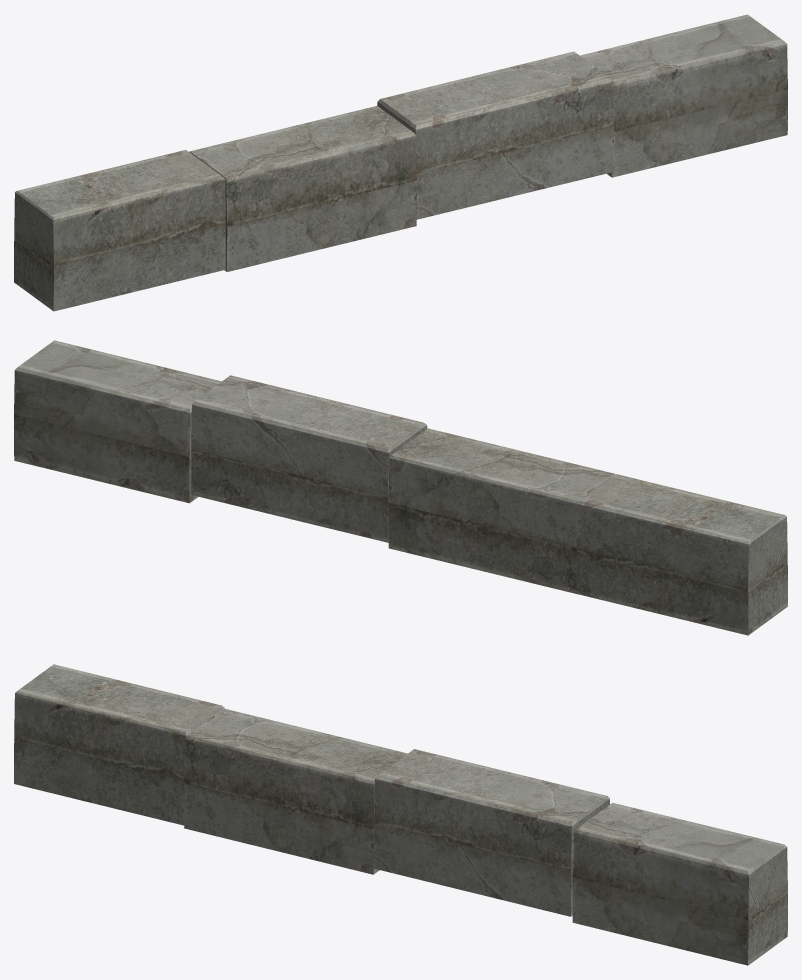
The model's file is bg_lut_lucastle_floorfence01_sm_jjy.FBX.
The picture shows the model from 3 angles, top to bottom: view 1: azimuth 30°, elevation 25°; view 2: azimuth 150°, elevation 25°; view 3: azimuth 330°, elevation 25°; orthographic projection.
Parts seen in each view (by area): view 1: bg_lut_lucastle_floorfence01_sm_jjy; view 2: bg_lut_lucastle_floorfence01_sm_jjy; view 3: bg_lut_lucastle_floorfence01_sm_jjy.
Part boxes in pixels (left/top/right/bottom): bg_lut_lucastle_floorfence01_sm_jjy: left=14, top=14, right=787, bottom=311; bg_lut_lucastle_floorfence01_sm_jjy: left=14, top=340, right=787, bottom=635; bg_lut_lucastle_floorfence01_sm_jjy: left=14, top=664, right=787, bottom=965.
Bounding box in the file's own units: 512 × 66.63 × 50.65.
